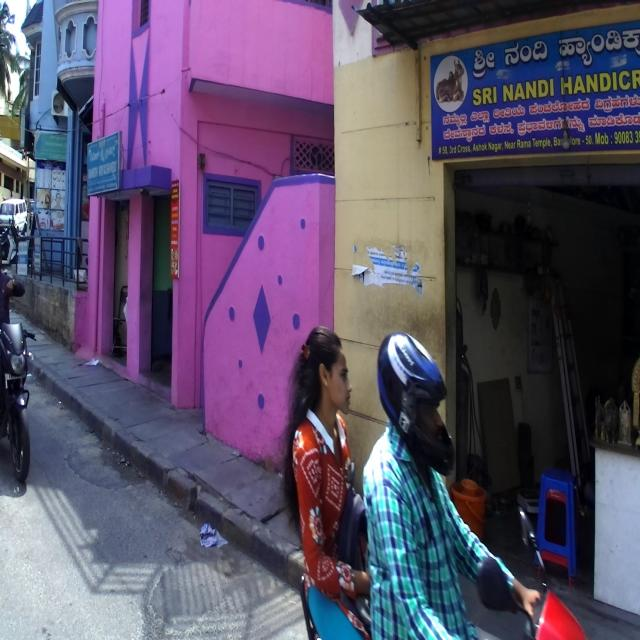motorcycle: (0, 323, 38, 487)
